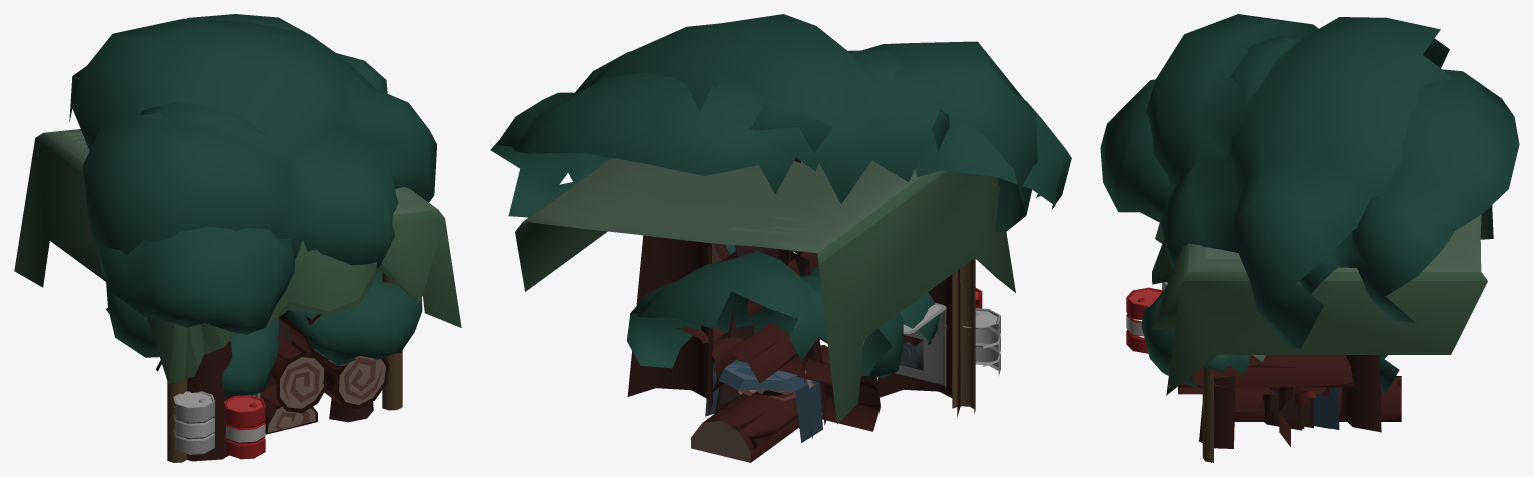
The model's file is props.glb.
3 renders of one model, left to right at view 1: azimuth 30°, elevation 25°; view 2: azimuth 150°, elevation 25°; view 3: azimuth 270°, elevation 25°, orthographic. The views are drawn at different scales.
Visible parts, largest first — view 1: tree_a, tent, tree_pair, tree_bush, tree_b, log_cut; view 2: tent, tree_pair, tree_a, tree_bush, tree_b, log_cut, rock, log; view 3: tree_a, tent, tree_pair, tree_bush, tree_b, log_cut, rock, log.
Boxes of the visible parts, x1,y1,x2,y2 form: tree_a: [69, 18, 436, 387]; tent: [14, 129, 461, 462]; tree_pair: [100, 14, 387, 461]; tree_bush: [106, 270, 422, 428]; tree_b: [140, 101, 266, 135]; log_cut: [260, 384, 317, 434]; tent: [515, 157, 1015, 423]; tree_pair: [490, 72, 1071, 416]; tree_a: [568, 14, 1037, 425]; tree_bush: [627, 244, 940, 413]; tree_b: [712, 50, 949, 438]; log_cut: [691, 345, 829, 462]; rock: [705, 360, 822, 442]; log: [712, 337, 879, 431]; tree_a: [1146, 14, 1453, 430]; tent: [1126, 205, 1493, 462]; tree_pair: [1100, 69, 1519, 432]; tree_bush: [1141, 288, 1399, 448]; tree_b: [1231, 35, 1330, 428]; log_cut: [1234, 376, 1401, 421]; rock: [1314, 387, 1339, 429]; log: [1279, 387, 1328, 446].
Bounding box in the file's own units: 8.04 × 7.08 × 7.43.
Materials: 1 (1 with a texture image).
